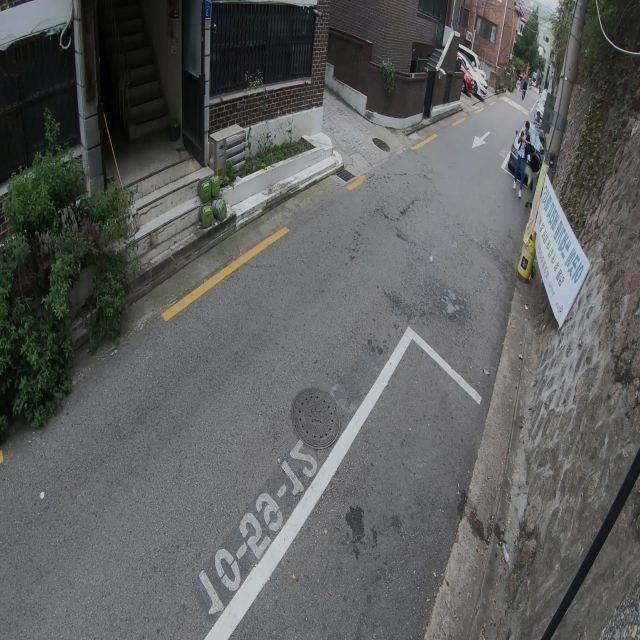fight: (509, 116, 544, 204)
